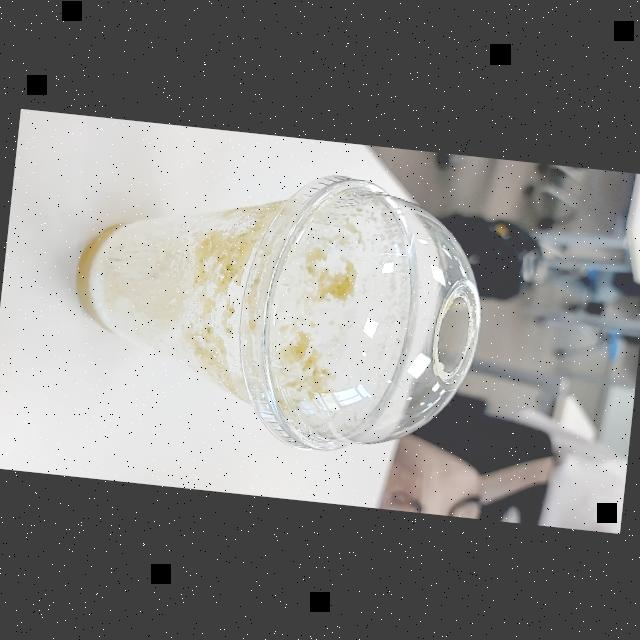plastic_cup: (57, 148, 497, 470)
plastic_cup_lid: (222, 160, 496, 468)
